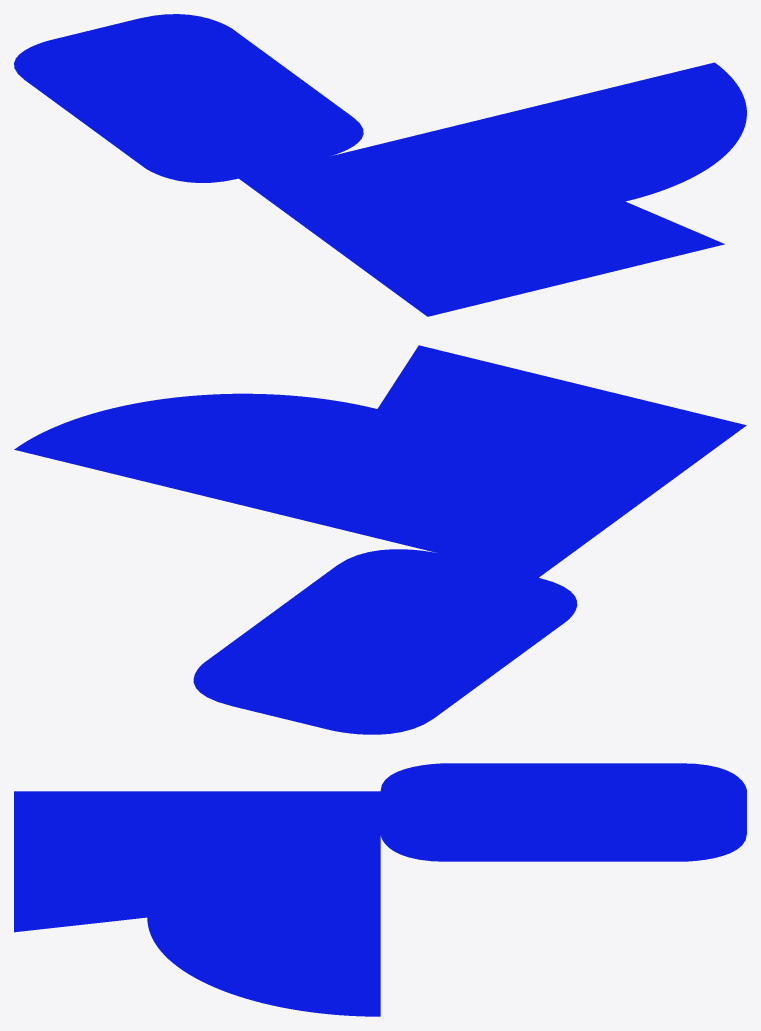
The model's file is toilet.glb.
3 views of the same model, one above another, from view 1: azimuth 30°, elevation 25°; view 2: azimuth 150°, elevation 25°; view 3: azimuth 270°, elevation 25° (orthographic). The views are drawn at different scales.
Visible parts, largest first — view 1: Curve.002; view 2: Curve.002; view 3: Curve.002.
Part boxes in pixels (<box>): Curve.002: <box>14,14,746,316</box>; Curve.002: <box>14,345,746,734</box>; Curve.002: <box>14,763,746,1016</box>.
Bounding box in the file's own units: 0.6042 × 0 × 0.7384.
